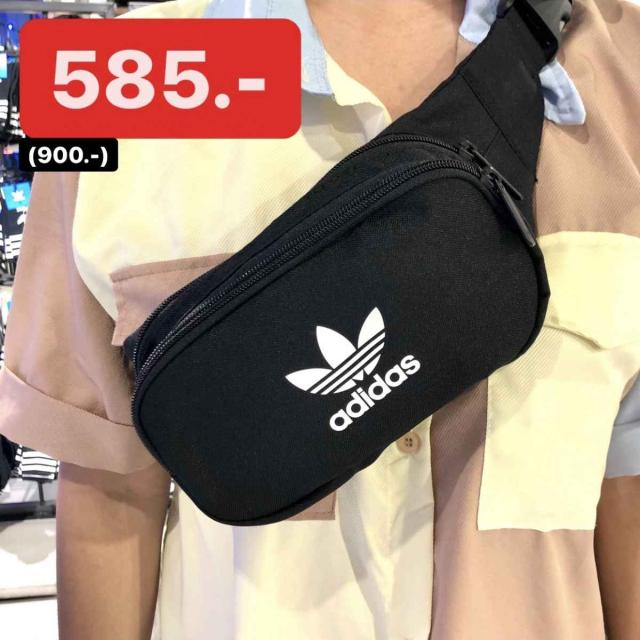Handbag: (124, 49, 559, 536)
